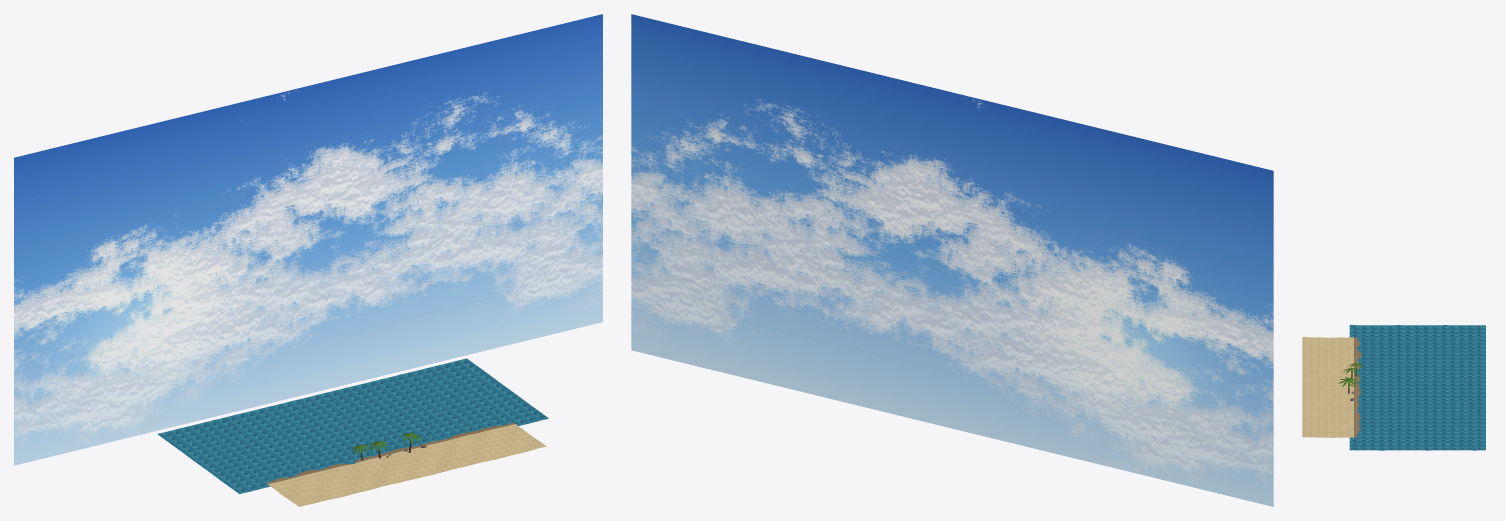
The model's file is PROP_BG_BEACH.glb.
The picture shows the model from 3 angles, left to right: view 1: azimuth 30°, elevation 25°; view 2: azimuth 150°, elevation 25°; view 3: azimuth 270°, elevation 25°; orthographic projection. The views are drawn at different scales.
Parts seen in each view (by area): view 1: PROP_BG_BEACH_0, PROP_BG_BEACH_1, PROP_BG_BEACH_3, PROP_BG_BEACH_2; view 2: PROP_BG_BEACH_0; view 3: PROP_BG_BEACH_1, PROP_BG_BEACH_3, PROP_BG_BEACH_2.
Boxes of the visible parts, box(x1,y1,x2,y2) form: PROP_BG_BEACH_0: box(14, 14, 602, 465); PROP_BG_BEACH_1: box(157, 358, 548, 493); PROP_BG_BEACH_3: box(268, 424, 546, 506); PROP_BG_BEACH_2: box(266, 422, 514, 484); PROP_BG_BEACH_0: box(631, 14, 1273, 506); PROP_BG_BEACH_1: box(1349, 325, 1485, 450); PROP_BG_BEACH_3: box(1302, 337, 1353, 437); PROP_BG_BEACH_2: box(1354, 337, 1361, 437).
Bounding box in the file's own units: 190 × 95.37 × 64.
Materials: 8 (7 with a texture image).
